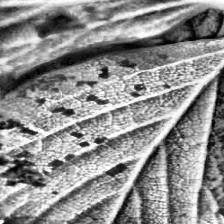Angular Leafspot: (0, 22, 224, 224), (0, 0, 216, 90)
